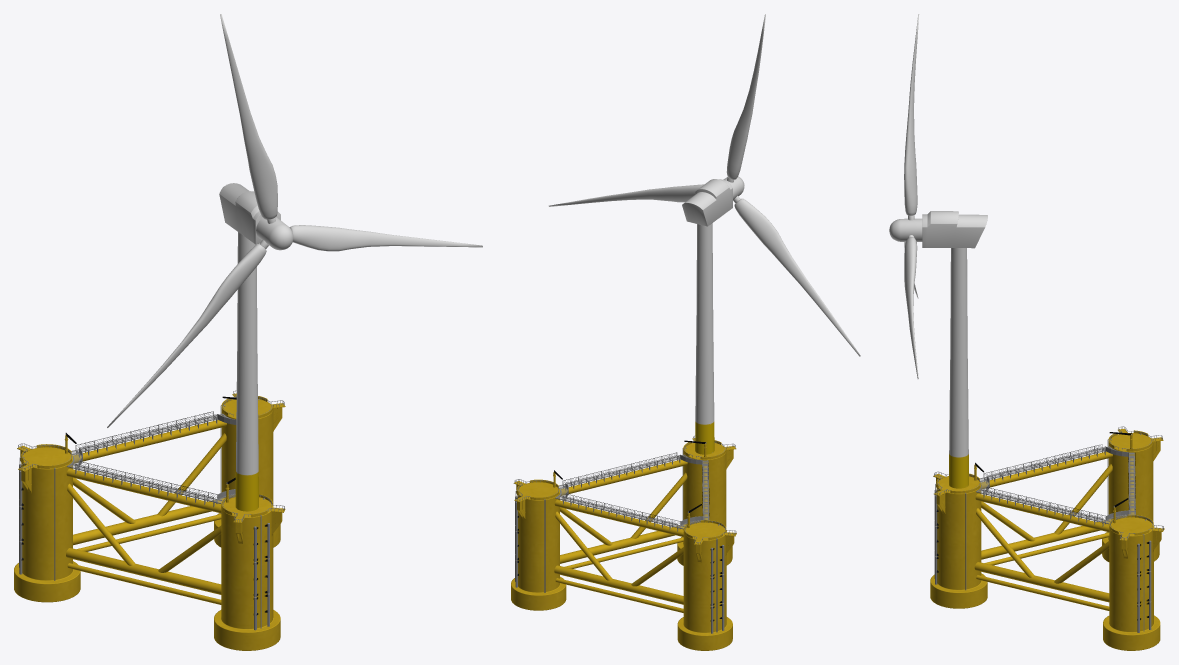
File: Offshore Wind Turbine Tri Floater V3.glb
3 renders of one model, left to right at view 1: azimuth 30°, elevation 25°; view 2: azimuth 150°, elevation 25°; view 3: azimuth 270°, elevation 25°, orthographic. The views are drawn at different scales.
Parts seen in each view (by area): view 1: Tri Floater_03, Wind Turbine Blades.003, Wind Turbine Body.003, TF 03. Walkway, WT Head.003, WT Blade Connector.003; view 2: Tri Floater_03, Wind Turbine Blades.003, Wind Turbine Body.003, TF 03. Walkway, WT Head.003; view 3: Tri Floater_03, Wind Turbine Body.003, TF 03. Walkway, Wind Turbine Blades.003, WT Head.003, WT Blade Connector.003.
Part boxes in pixels (left/top/right/bottom): Tri Floater_03: left=14, top=390, right=285, bottom=650; Wind Turbine Blades.003: left=107, top=14, right=482, bottom=427; Wind Turbine Body.003: left=235, top=232, right=258, bottom=511; TF 03. Walkway: left=67, top=411, right=236, bottom=507; WT Head.003: left=219, top=183, right=280, bottom=244; WT Blade Connector.003: left=256, top=217, right=293, bottom=250; Tri Floater_03: left=511, top=435, right=736, bottom=650; Wind Turbine Blades.003: left=549, top=14, right=860, bottom=356; Wind Turbine Body.003: left=695, top=223, right=714, bottom=454; TF 03. Walkway: left=555, top=452, right=709, bottom=531; WT Head.003: left=682, top=179, right=732, bottom=226; Tri Floater_03: left=930, top=426, right=1164, bottom=650; Wind Turbine Body.003: left=949, top=248, right=968, bottom=488; TF 03. Walkway: left=976, top=444, right=1135, bottom=526; Wind Turbine Blades.003: left=904, top=14, right=919, bottom=378; WT Head.003: left=922, top=211, right=987, bottom=248; WT Blade Connector.003: left=889, top=215, right=922, bottom=241.
Bounding box in the file's own units: 129 × 214 × 95.16.
Materials: 5 (3 with a texture image).
